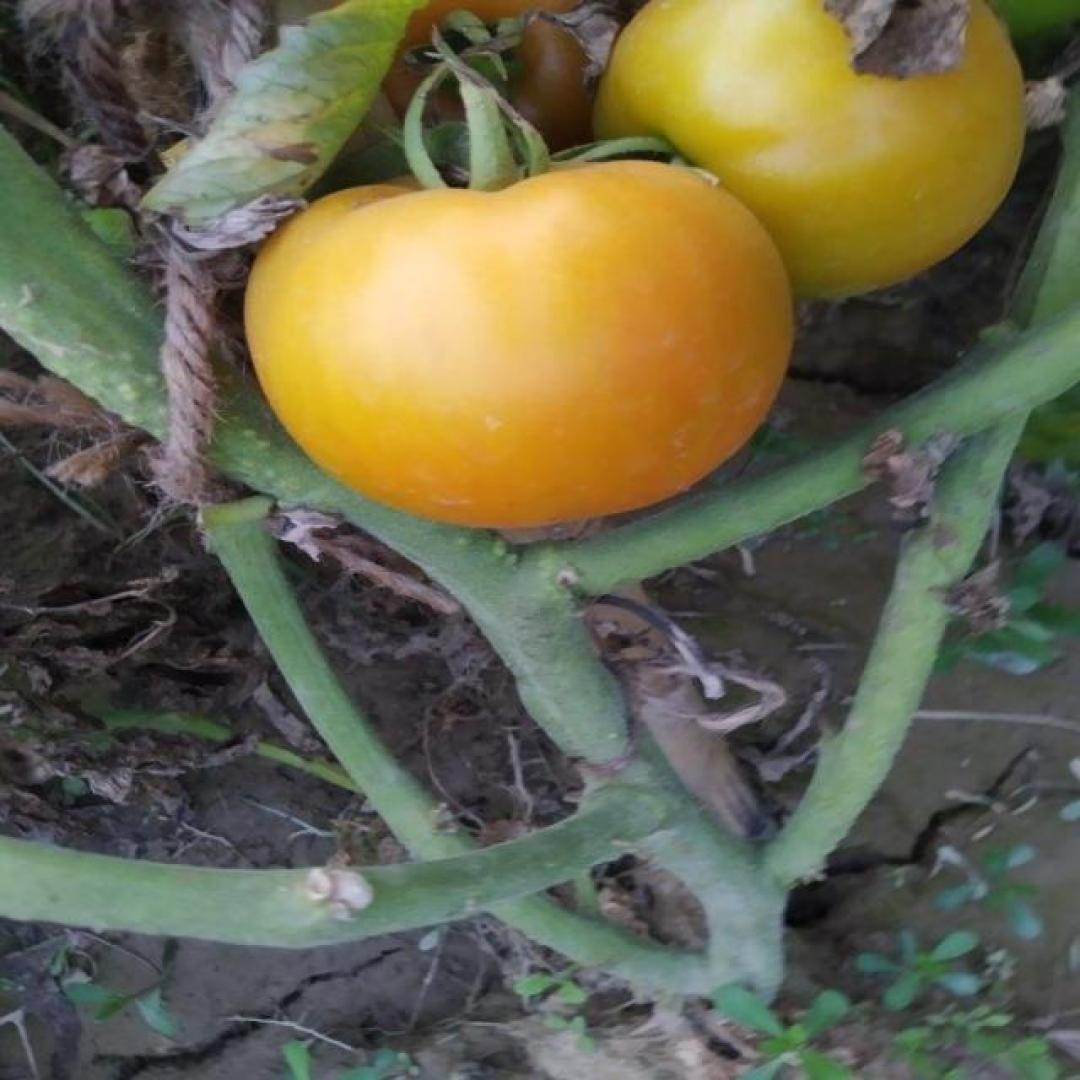setengah_matang: (235, 155, 798, 532)
